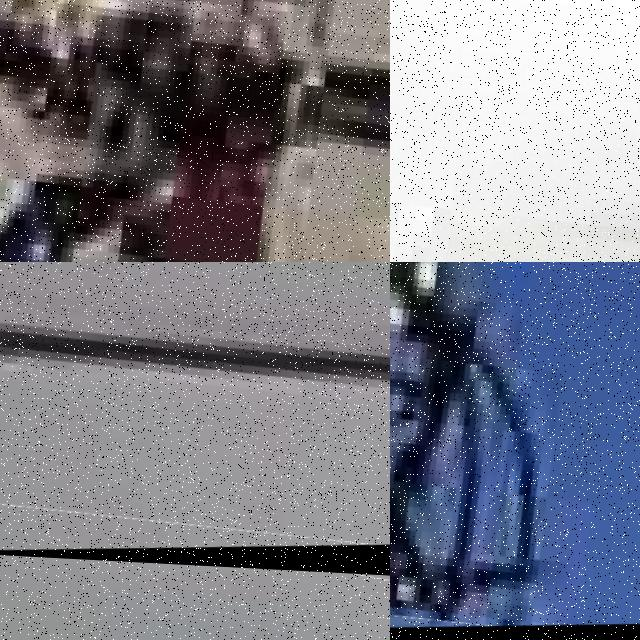0: (0, 0, 390, 262), (390, 262, 640, 640)
drone: (0, 262, 390, 583), (390, 0, 640, 262)
